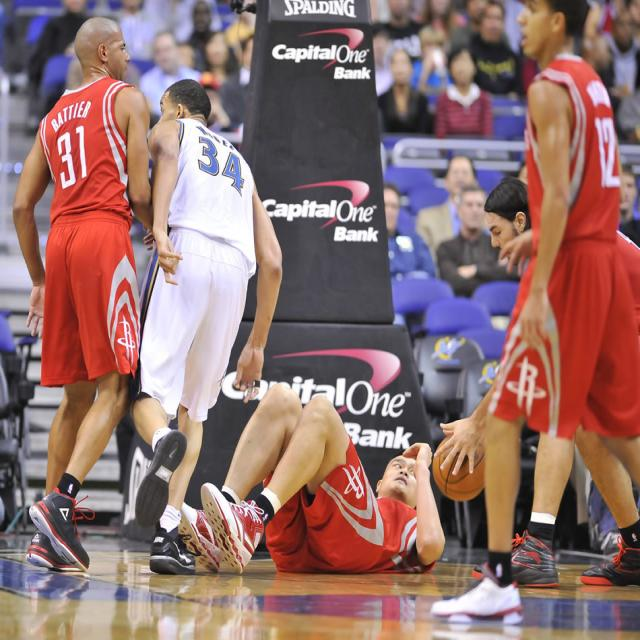10-: (2, 0, 639, 614)
down: (183, 370, 468, 571)
